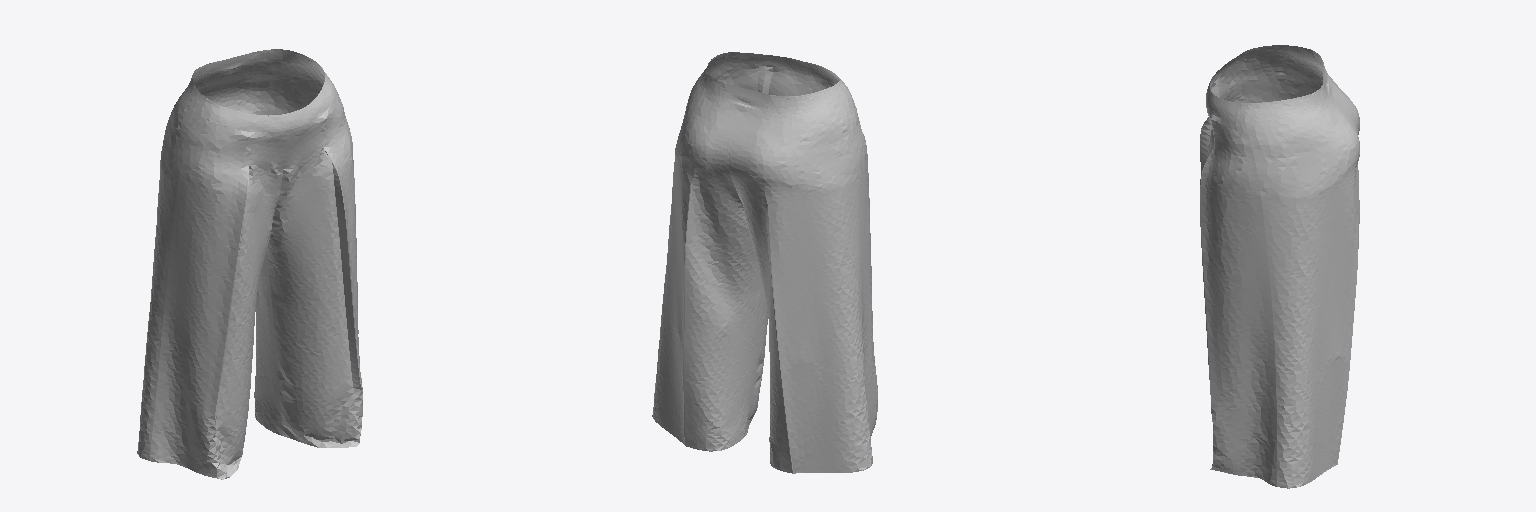
Rendered from Medium_Short.obj.
3 views of the same model, side by side, from view 1: azimuth 30°, elevation 25°; view 2: azimuth 150°, elevation 25°; view 3: azimuth 270°, elevation 25° (orthographic).
Visible parts, largest first — view 1: changku.003; view 2: changku.003; view 3: changku.003.
Boxes of the visible parts, x1=… form: changku.003: x1=137, y1=49, x2=362, y2=479; changku.003: x1=652, y1=52, x2=877, y2=473; changku.003: x1=1200, y1=45, x2=1359, y2=488.
Bounding box in the file's own units: 0.5384 × 0.8653 × 0.3421.